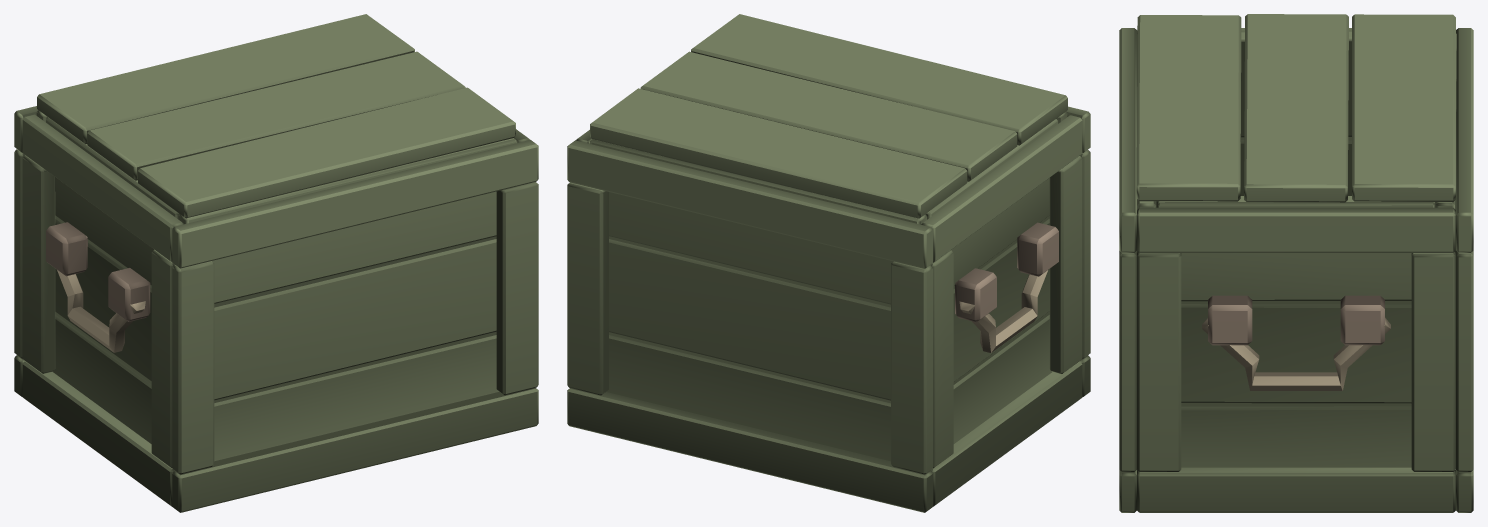
The model's file is camp_box.glb.
3 renders of one model, left to right at view 1: azimuth 30°, elevation 25°; view 2: azimuth 150°, elevation 25°; view 3: azimuth 270°, elevation 25°, orthographic. The views are drawn at different scales.
Parts seen in each view (by area): view 1: static; view 2: static; view 3: static.
Boxes of the visible parts, x1=… form: static: x1=14, y1=14, x2=538, y2=512; static: x1=567, y1=14, x2=1090, y2=512; static: x1=1119, y1=14, x2=1473, y2=512.
Size of the model in its own units: 0.53 by 0.4019 by 0.4.
